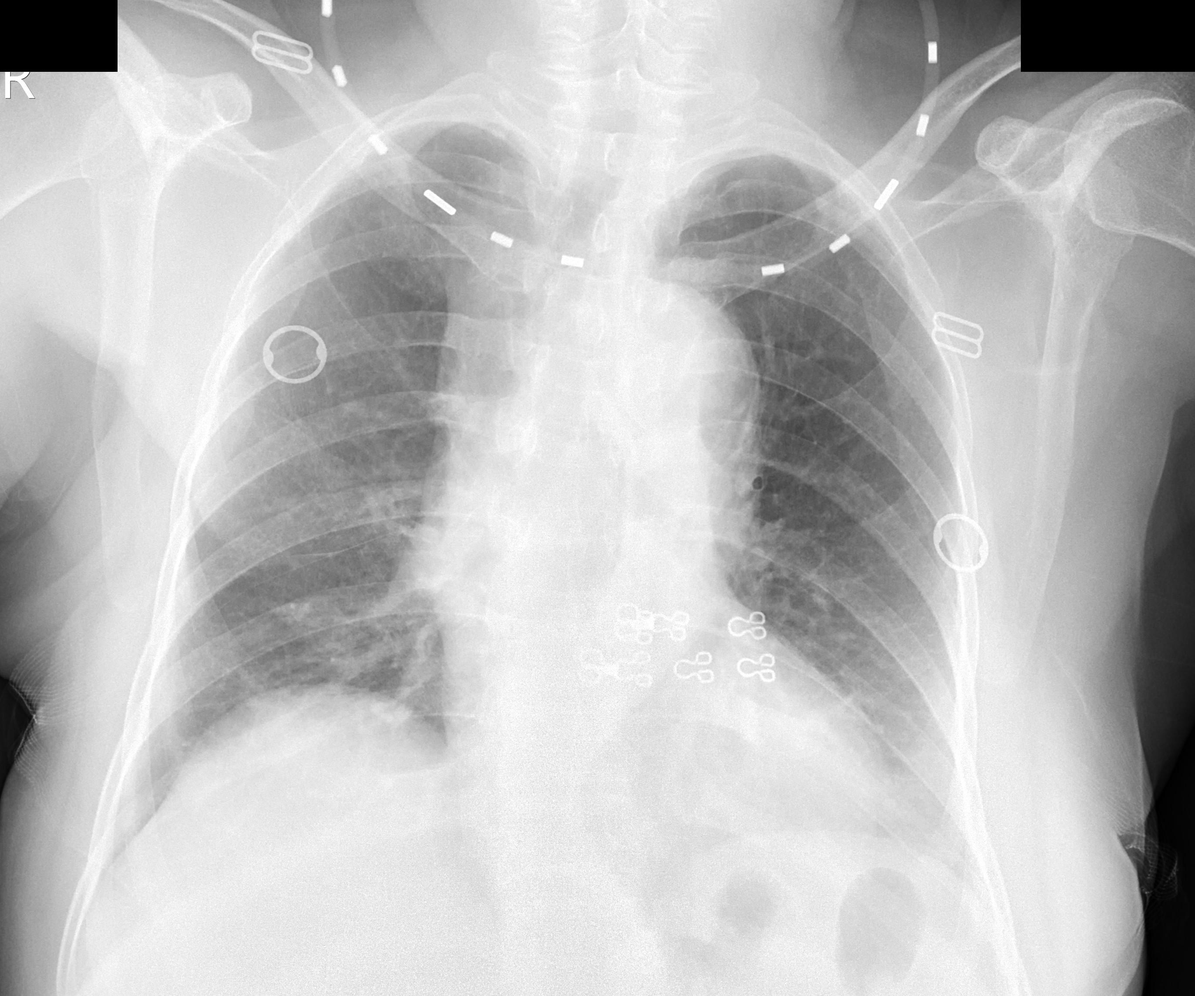Aortic enlargement: (582, 275, 755, 489)
